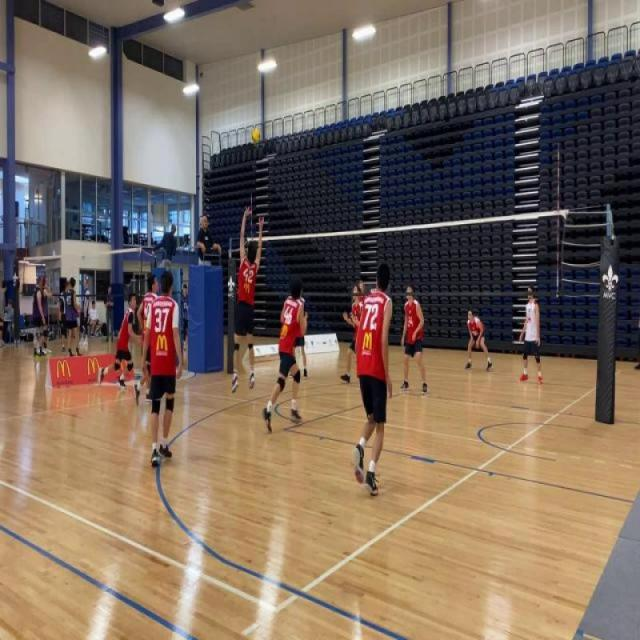volleyball: (250, 125, 262, 145)
